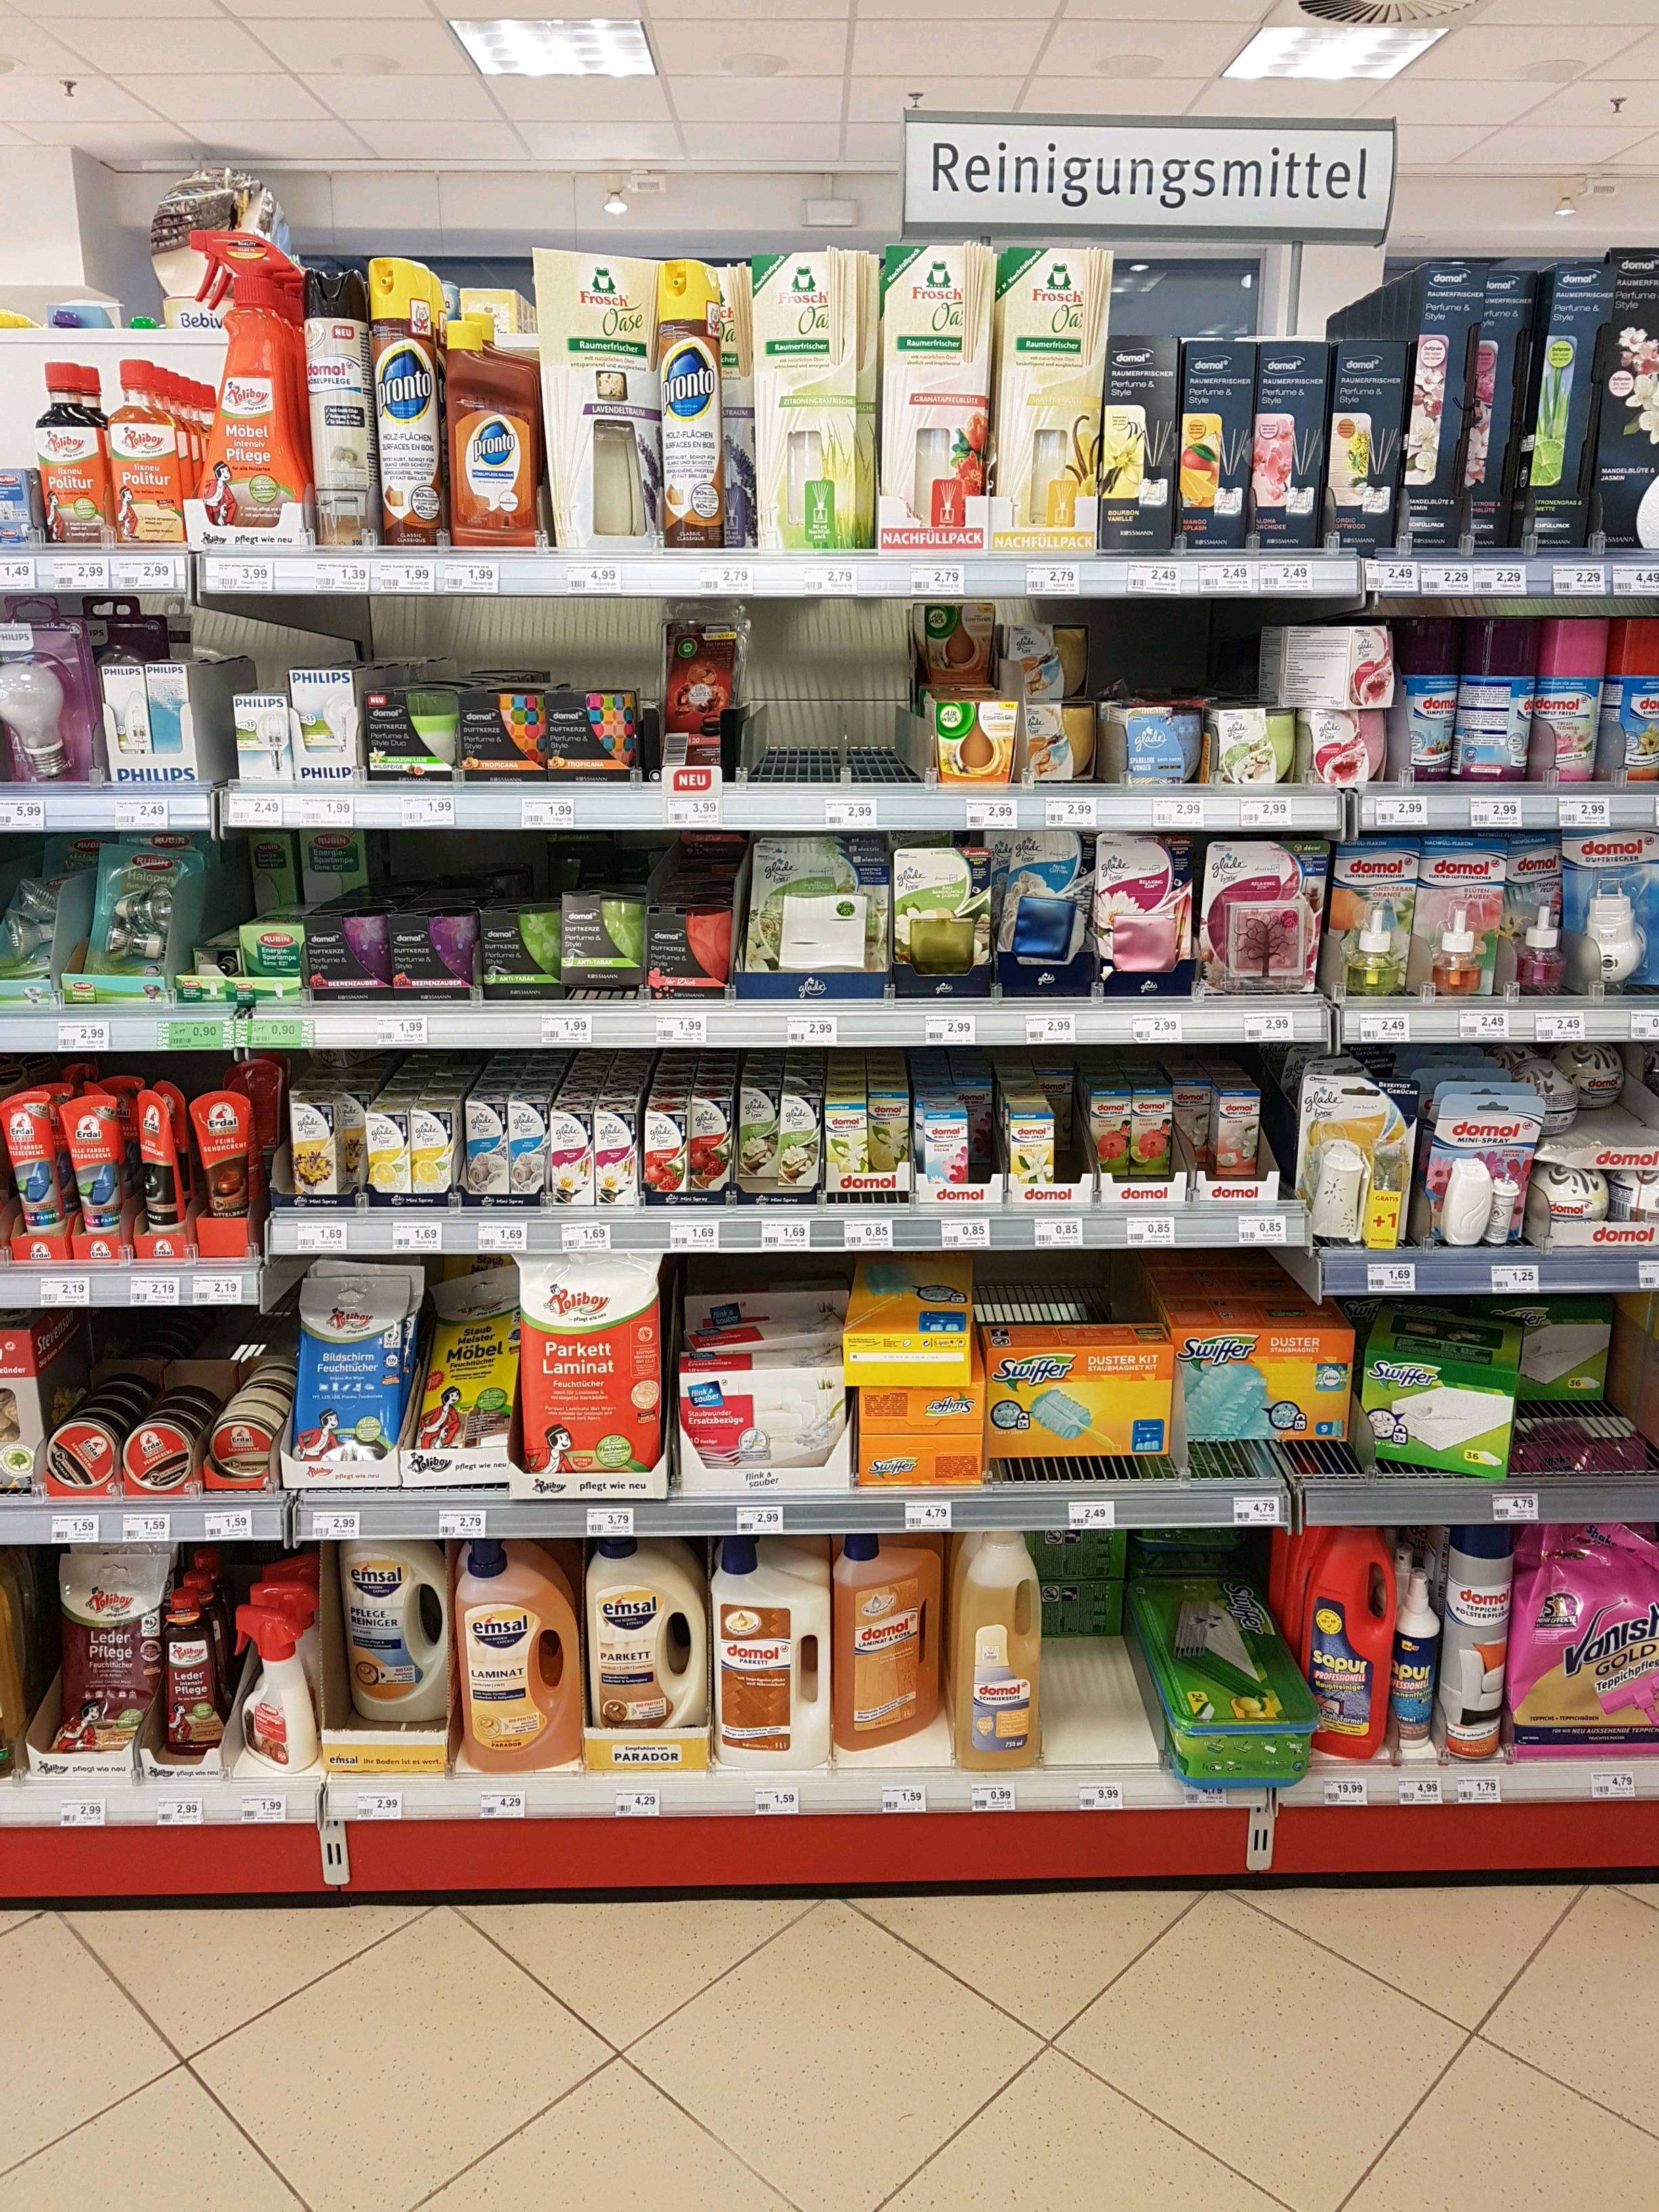Misplacement: (739, 1087, 823, 1204)
Out-of-stock: (756, 624, 845, 787)
